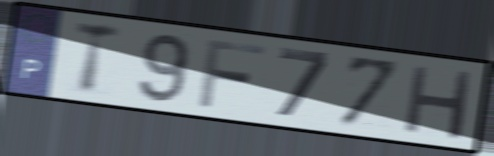7: (340, 53, 405, 131), (273, 44, 335, 122)
9: (134, 31, 194, 106)
F: (196, 36, 269, 111)
H: (401, 62, 477, 142)
T: (71, 18, 125, 97)
